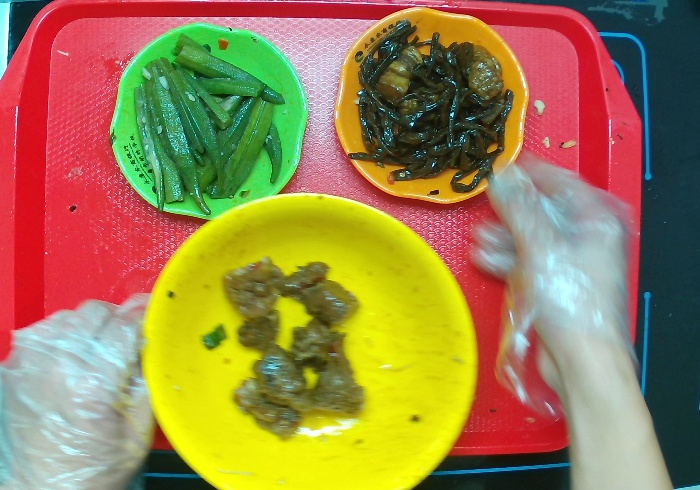YKMZ-Huang_Se_Tang_Wan: (136, 191, 480, 490)
YKMZ-Ju_Se_Ao_Bian_Wan: (331, 6, 532, 206)
YKMZ-Lv_Se_Ao_Bian_Wan: (106, 21, 310, 222)
